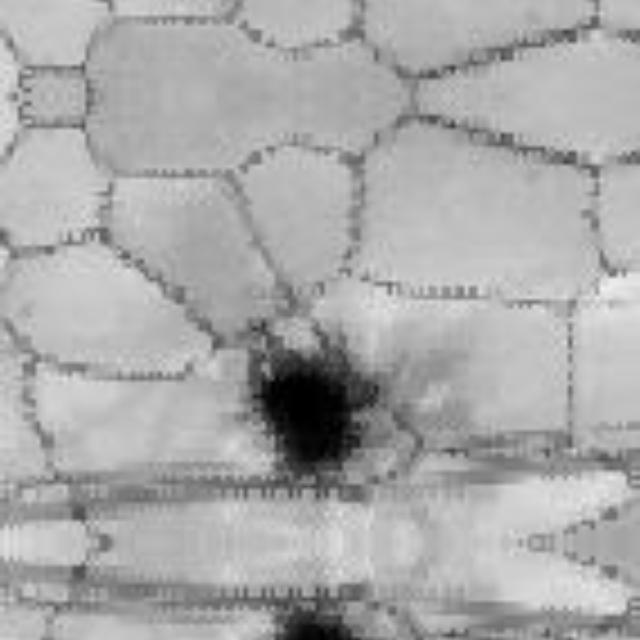good_void: (237, 313, 386, 494), (259, 590, 363, 640)
